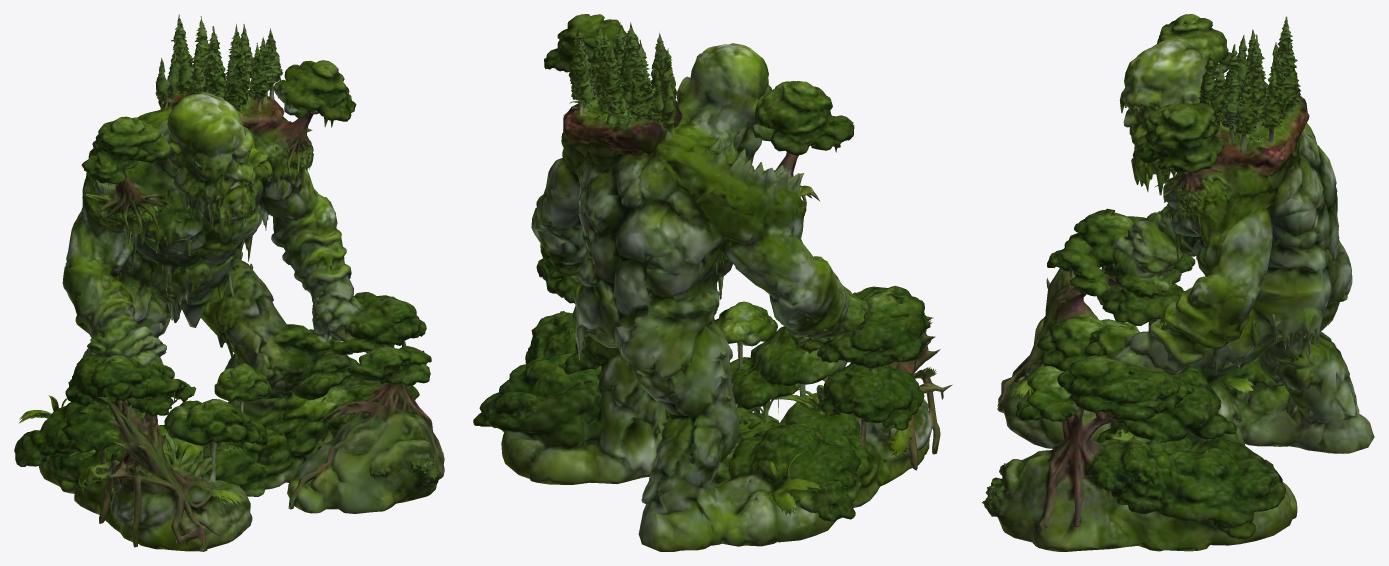
Rendered from mini_wg17.glb.
3 renders of one model, left to right at view 1: azimuth 30°, elevation 25°; view 2: azimuth 150°, elevation 25°; view 3: azimuth 270°, elevation 25°, orthographic. The views are drawn at different scales.
Size of the model in its own units: 1.67 by 1.9 by 1.5.
Materials: 1 (1 with a texture image).
